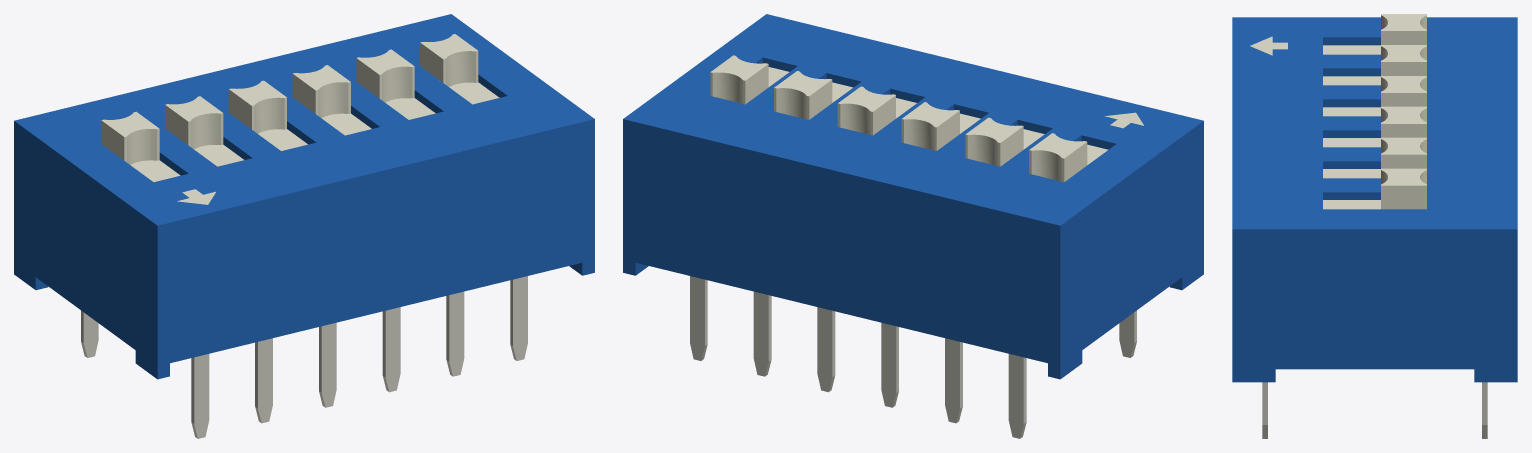
File: kc-sw_dip_spstx06_slide_9.78x17.42mm_w7.62mm_p2.54mm.glb
3 renders of one model, left to right at view 1: azimuth 30°, elevation 25°; view 2: azimuth 150°, elevation 25°; view 3: azimuth 270°, elevation 25°, orthographic.
Visible parts, largest first — view 1: 0_0.16666666666666666_0.5_0, 0.75_0.75_0.6666666666666666_0, 0.6666666666666666_0.6666666666666666_0.5833333333333334_0.8; view 2: 0_0.16666666666666666_0.5_0, 0.75_0.75_0.6666666666666666_0, 0.6666666666666666_0.6666666666666666_0.5833333333333334_0.8; view 3: 0_0.16666666666666666_0.5_0, 0.75_0.75_0.6666666666666666_0, 0.6666666666666666_0.6666666666666666_0.5833333333333334_0.8.
Boxes of the visible parts, x1=… form: 0_0.16666666666666666_0.5_0: x1=14, y1=14, x2=594, y2=379; 0.75_0.75_0.6666666666666666_0: x1=101, y1=34, x2=499, y2=204; 0.6666666666666666_0.6666666666666666_0.5833333333333334_0.8: x1=81, y1=276, x2=527, y2=438; 0_0.16666666666666666_0.5_0: x1=623, y1=14, x2=1203, y2=379; 0.75_0.75_0.6666666666666666_0: x1=710, y1=55, x2=1143, y2=181; 0.6666666666666666_0.6666666666666666_0.5833333333333334_0.8: x1=690, y1=276, x2=1136, y2=438; 0_0.16666666666666666_0.5_0: x1=1232, y1=17, x2=1517, y2=382; 0.75_0.75_0.6666666666666666_0: x1=1250, y1=14, x2=1426, y2=209; 0.6666666666666666_0.6666666666666666_0.5833333333333334_0.8: x1=1262, y1=382, x2=1487, y2=438.
Size of the model in its own units: 1.74 by 0.995 by 0.99.
